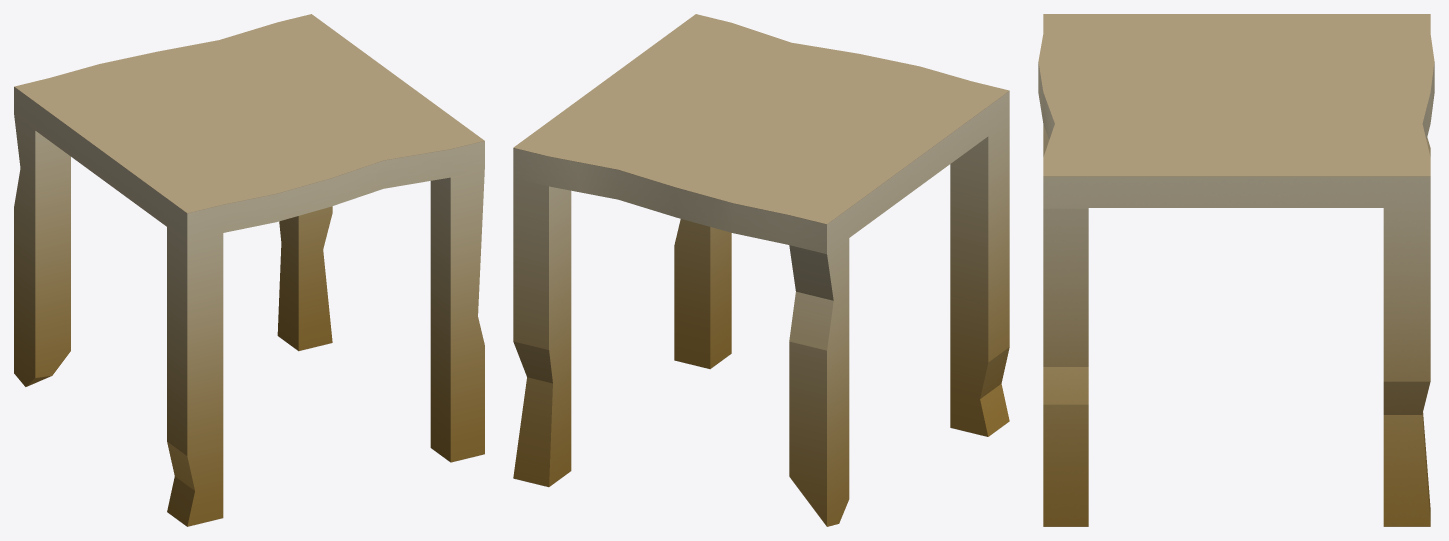
Rendered from Brake_Small_table.FBX.
3 views of the same model, side by side, from view 1: azimuth 30°, elevation 25°; view 2: azimuth 150°, elevation 25°; view 3: azimuth 270°, elevation 25° (orthographic). The views are drawn at different scales.
Parts seen in each view (by area): view 1: Small _table_Part_2, Small _table_Part_1, Small _table_Part_10, Small _table_Part_3, Small _table_Part_9, Small _table_Part_5, Small _table_Part_6, Small _table_Part_4, Small _table_Part_7, Small _table_Part_8; view 2: Small _table_Part_2, Small _table_Part_10, Small _table_Part_3, Small _table_Part_1, Small _table_Part_4, Small _table_Part_9, Small _table_Part_5, Small _table_Part_8, Small _table_Part_6; view 3: Small _table_Part_3, Small _table_Part_10, Small _table_Part_4, Small _table_Part_1, Small _table_Part_7, Small _table_Part_5, Small _table_Part_2, Small _table_Part_8, Small _table_Part_6.
Part boxes in pixels (x1=…): Small _table_Part_2: x1=14, y1=60, x2=132, y2=386; Small _table_Part_1: x1=121, y1=151, x2=332, y2=356; Small _table_Part_10: x1=116, y1=29, x2=263, y2=164; Small _table_Part_3: x1=254, y1=14, x2=419, y2=160; Small _table_Part_9: x1=167, y1=341, x2=223, y2=526; Small _table_Part_5: x1=430, y1=291, x2=484, y2=462; Small _table_Part_6: x1=312, y1=127, x2=484, y2=212; Small _table_Part_4: x1=277, y1=206, x2=332, y2=351; Small _table_Part_7: x1=423, y1=112, x2=483, y2=301; Small _table_Part_8: x1=297, y1=93, x2=444, y2=167; Small _table_Part_2: x1=698, y1=137, x2=941, y2=526; Small _table_Part_10: x1=576, y1=94, x2=932, y2=223; Small _table_Part_3: x1=513, y1=64, x2=838, y2=212; Small _table_Part_1: x1=835, y1=54, x2=1009, y2=256; Small _table_Part_4: x1=513, y1=185, x2=571, y2=487; Small _table_Part_9: x1=950, y1=242, x2=1009, y2=436; Small _table_Part_5: x1=674, y1=219, x2=731, y2=369; Small _table_Part_8: x1=627, y1=42, x2=844, y2=75; Small _table_Part_6: x1=677, y1=14, x2=860, y2=66; Small _table_Part_3: x1=1102, y1=80, x2=1430, y2=247; Small _table_Part_10: x1=1143, y1=19, x2=1433, y2=143; Small _table_Part_4: x1=1383, y1=216, x2=1430, y2=526; Small _table_Part_1: x1=1038, y1=14, x2=1186, y2=156; Small _table_Part_7: x1=1043, y1=156, x2=1148, y2=347; Small _table_Part_5: x1=1043, y1=342, x2=1088, y2=526; Small _table_Part_2: x1=1185, y1=14, x2=1434, y2=156; Small _table_Part_8: x1=1078, y1=88, x2=1188, y2=207; Small _table_Part_6: x1=1043, y1=90, x2=1098, y2=230.
Bounding box in the file's own units: 15.26 × 15.37 × 15.74.
Materials: 1 (1 with a texture image).
